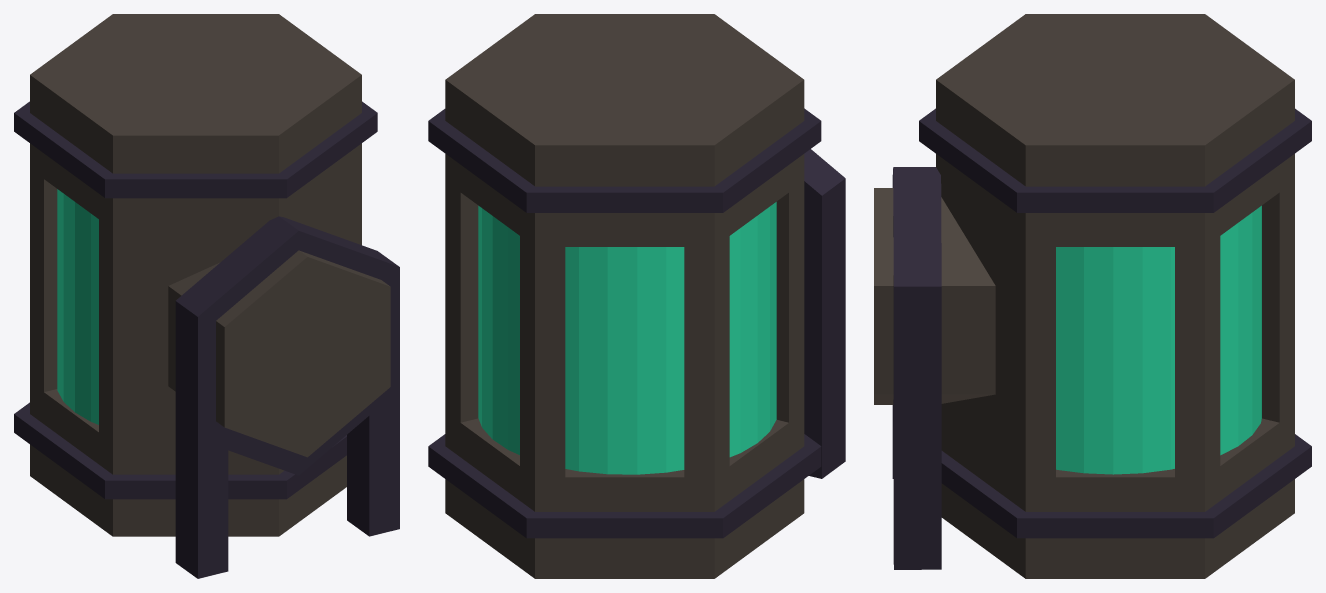
The model's file is Extractor.fbx.
3 renders of one model, left to right at view 1: azimuth 30°, elevation 25°; view 2: azimuth 150°, elevation 25°; view 3: azimuth 270°, elevation 25°, orthographic. The views are drawn at different scales.
Visible parts, largest first — view 1: Extractor; view 2: Extractor; view 3: Extractor.
Boxes of the visible parts, <box> form: Extractor: <box>14,14,399,578</box>; Extractor: <box>428,14,845,578</box>; Extractor: <box>874,14,1311,578</box>.
Bounding box in the file's own units: 71.15 × 101 × 91.53.
